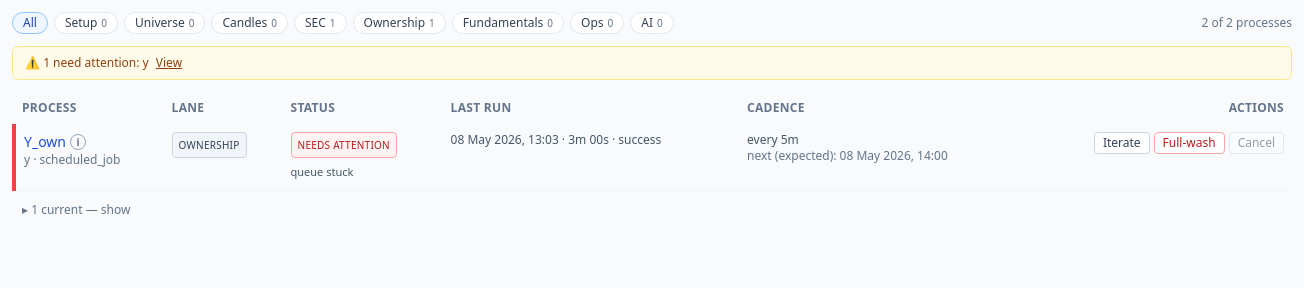
Scenario: ProcessesTable › filters by selected lane
Click the button "▸ 1 current — show": click(76, 210) [22,202,130,218]
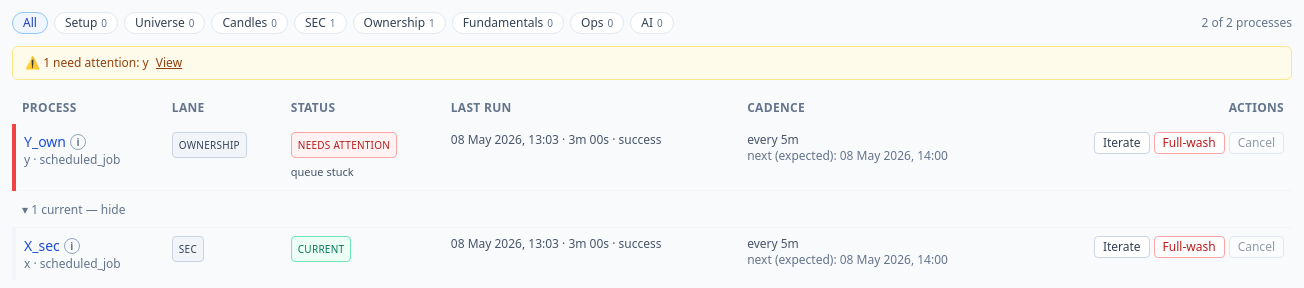
Click the button "Ownership1": click(399, 23) [352,12,446,34]
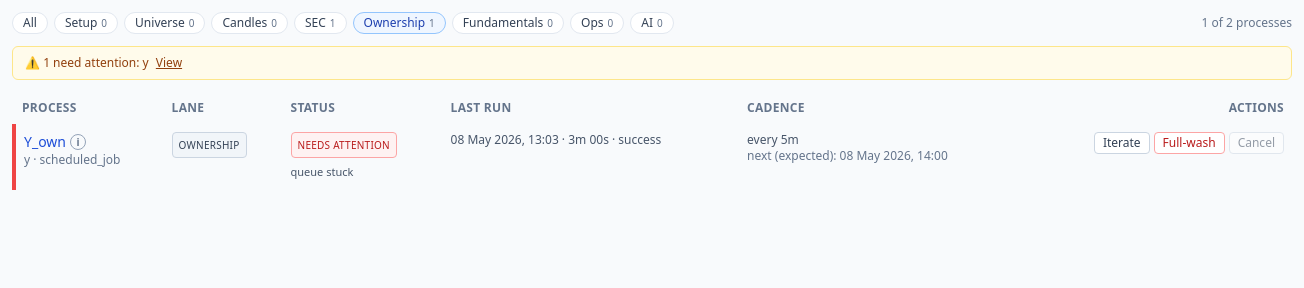
Expected: the link "Y_own" is shown, [24,132,66,152]
Expected: the link "X_sec" is gone
